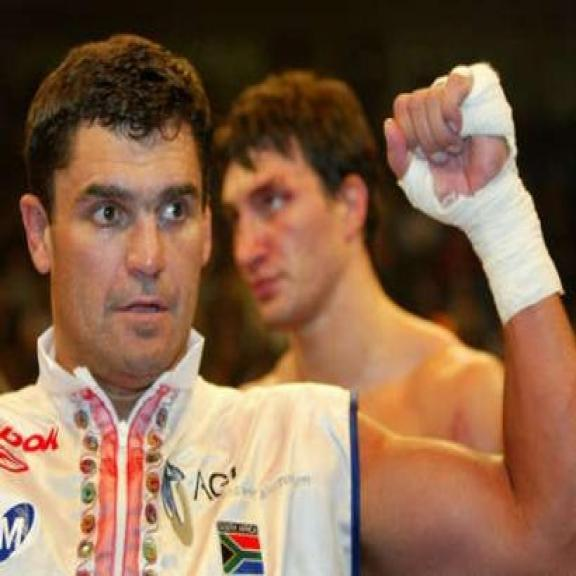face: (25, 118, 216, 378), (222, 148, 371, 332)
